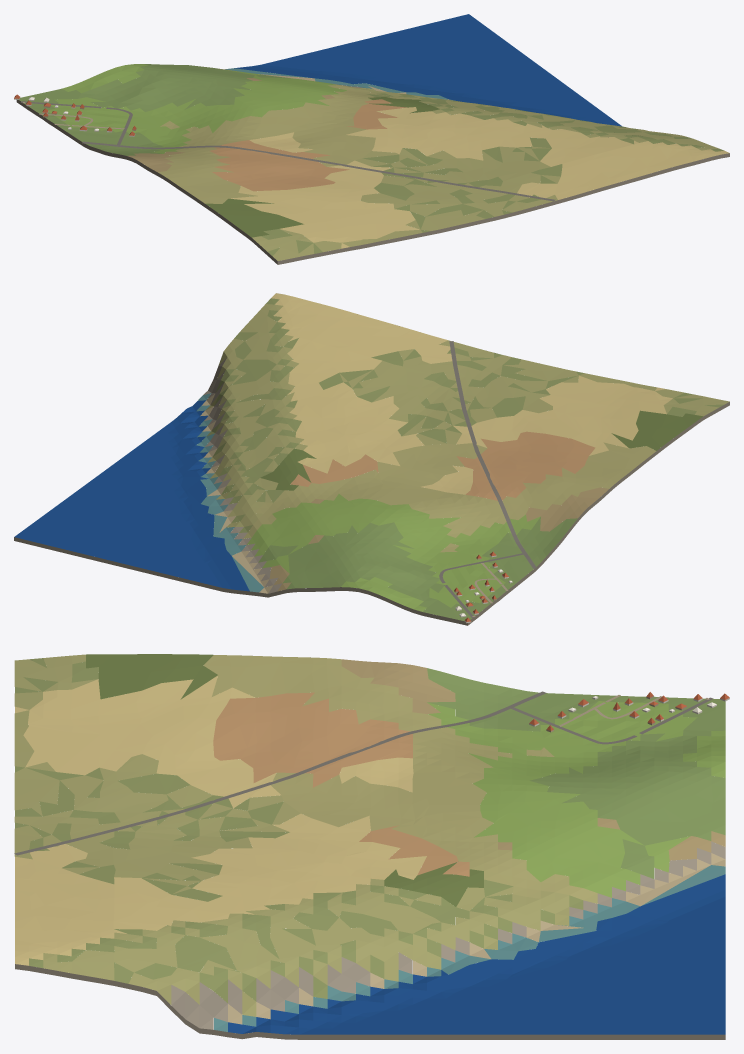
Rendered from parca_+11_+0-uzak.glb.
3 renders of one model, top to bottom at view 1: azimuth 30°, elevation 25°; view 2: azimuth 150°, elevation 25°; view 3: azimuth 270°, elevation 25°, orthographic. The views are drawn at different scales.
Visible parts, largest first — view 1: parca_+11_+0_arazi_uzak, parca_+11_+0_yollar_uzak, parca_+11_+0_yapilar_uzak; view 2: parca_+11_+0_arazi_uzak, parca_+11_+0_yollar_uzak; view 3: parca_+11_+0_arazi_uzak, parca_+11_+0_yollar_uzak, parca_+11_+0_yapilar_uzak.
Boxes of the visible parts, x1=… form: parca_+11_+0_arazi_uzak: x1=16, y1=14, x2=729, y2=264; parca_+11_+0_yollar_uzak: x1=21, y1=101, x2=555, y2=201; parca_+11_+0_yapilar_uzak: x1=14, y1=94, x2=136, y2=136; parca_+11_+0_arazi_uzak: x1=14, y1=293, x2=729, y2=625; parca_+11_+0_yollar_uzak: x1=439, y1=341, x2=536, y2=618; parca_+11_+0_arazi_uzak: x1=14, y1=654, x2=725, y2=1039; parca_+11_+0_yollar_uzak: x1=14, y1=691, x2=713, y2=855; parca_+11_+0_yapilar_uzak: x1=529, y1=692, x2=729, y2=732.
Bounding box in the file's own units: 1007 × 133 × 1007.
